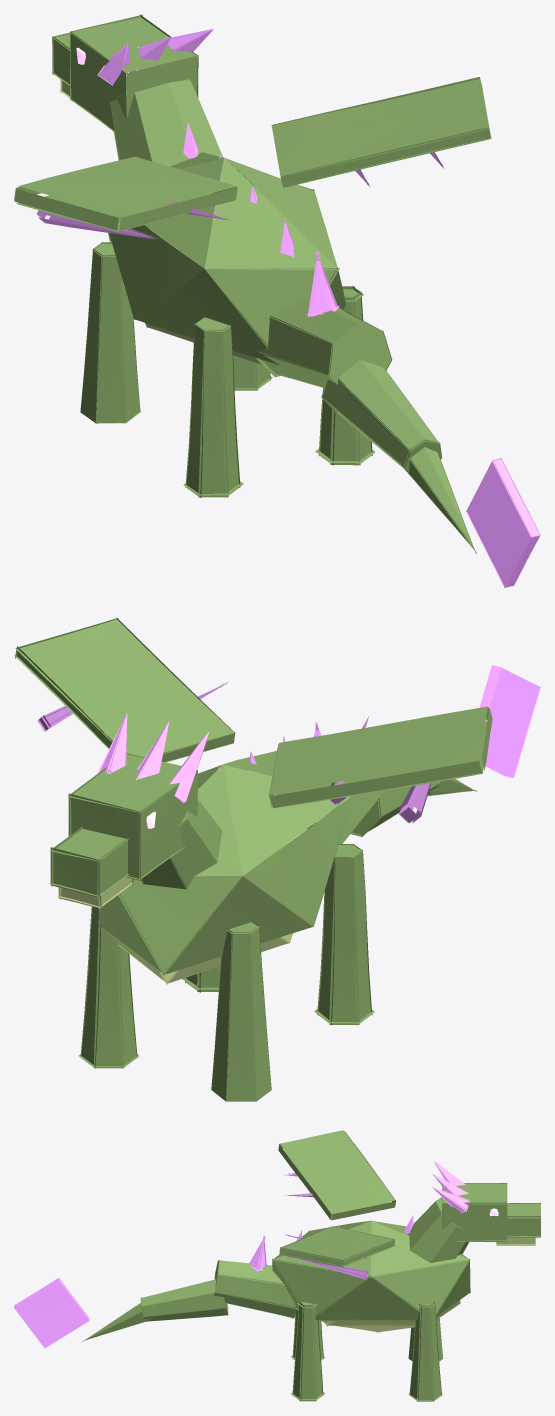
File: dragon_venom.glb
3 views of the same model, one above another, from view 1: azimuth 30°, elevation 25°; view 2: azimuth 150°, elevation 25°; view 3: azimuth 270°, elevation 25° (orthographic). The views are drawn at different scales.
Parts seen in each view (by area): view 1: DragonBody; view 2: DragonBody; view 3: DragonBody.
Boxes of the visible parts, bbox=[...] form: DragonBody: bbox=[14, 14, 540, 588]; DragonBody: bbox=[14, 618, 540, 1101]; DragonBody: bbox=[14, 1130, 540, 1401].
Bounding box in the file's own units: 2.61 × 1.91 × 4.45.
